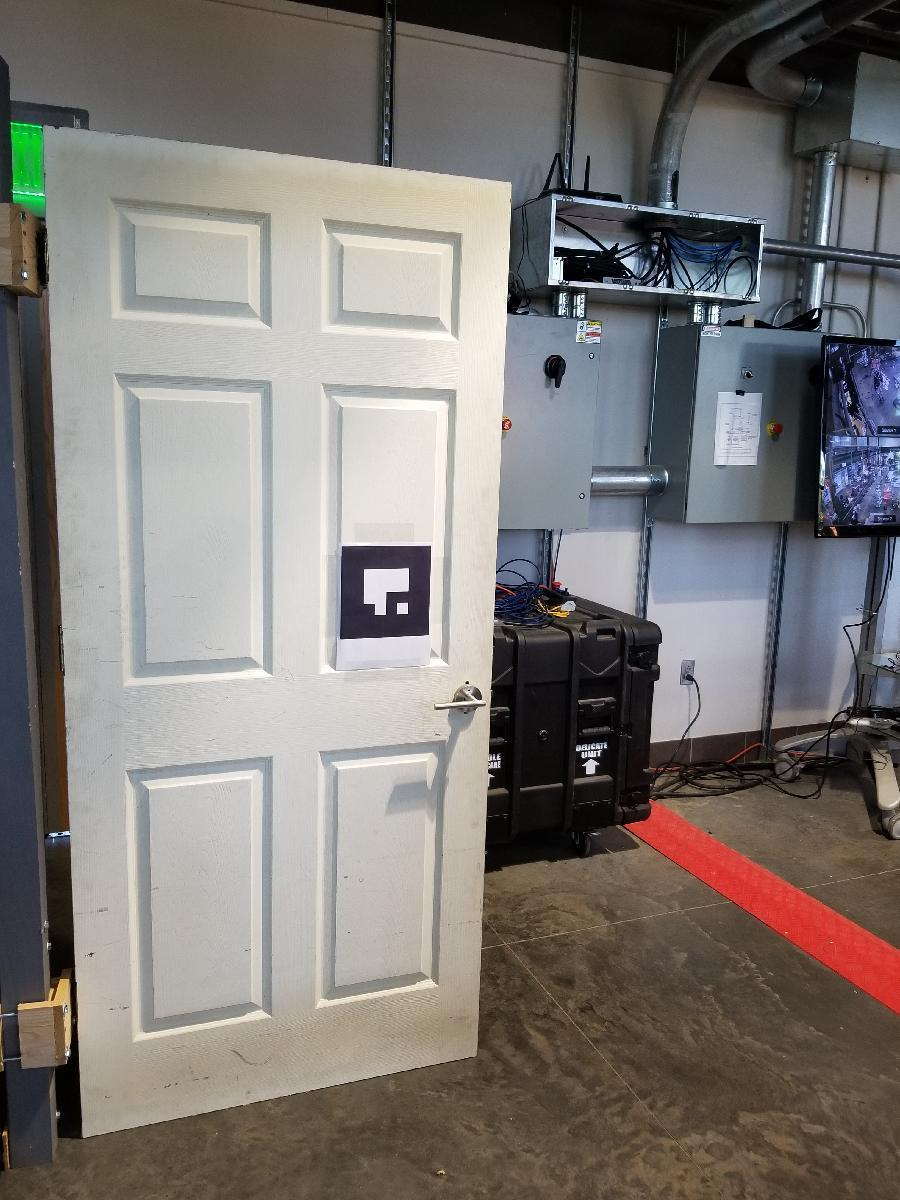door: (55, 128, 490, 1117)
handle: (426, 682, 491, 716)
